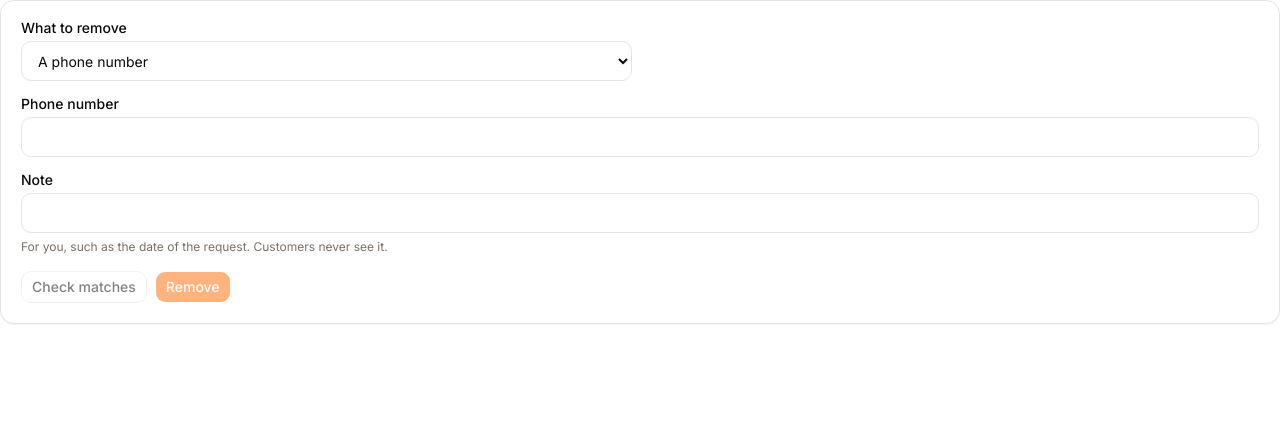
Test: RemovalForm › shows how many permits match, and where, before it can remove
In the field labelled "Phone number": (640, 137) 21,117 -> 1259,157, type "(480) 555-0142"
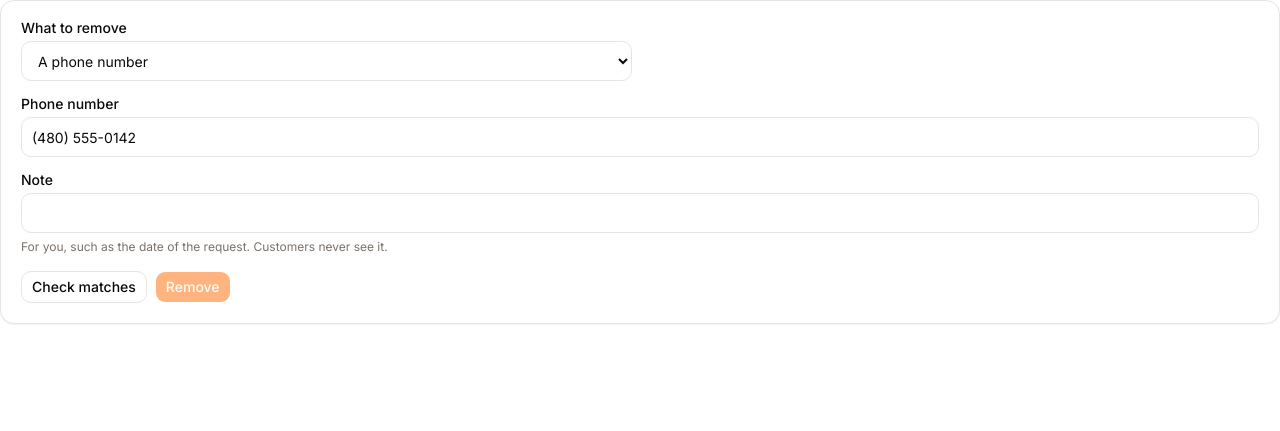
Click the button "Check matches": click(84, 287) 21,271 -> 147,303
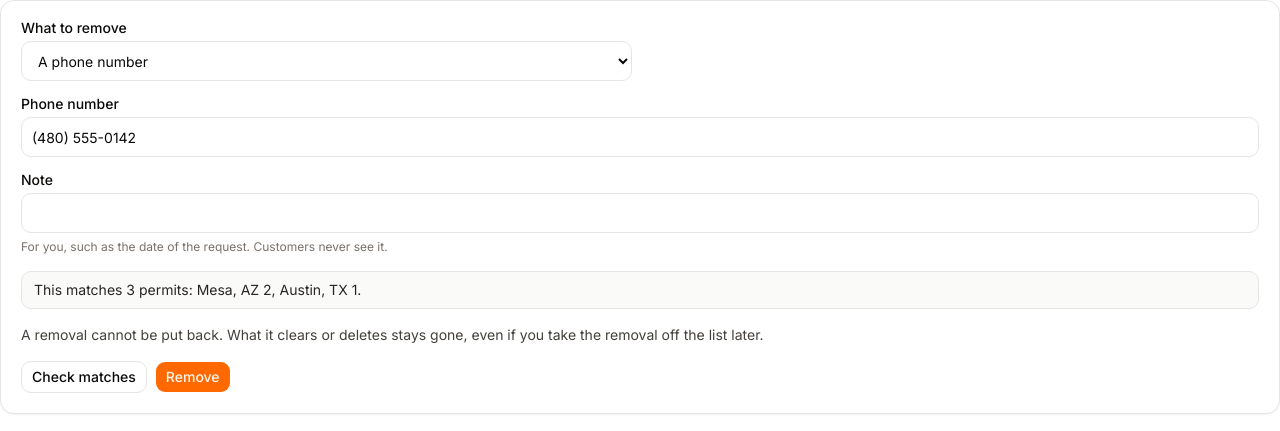
Result: the text "This matches 3 permits: Mesa, AZ 2, Austin, TX 1." is shown at 21,271 -> 1259,309
Result: the button "Remove" is enabled at 155,361 -> 230,393
